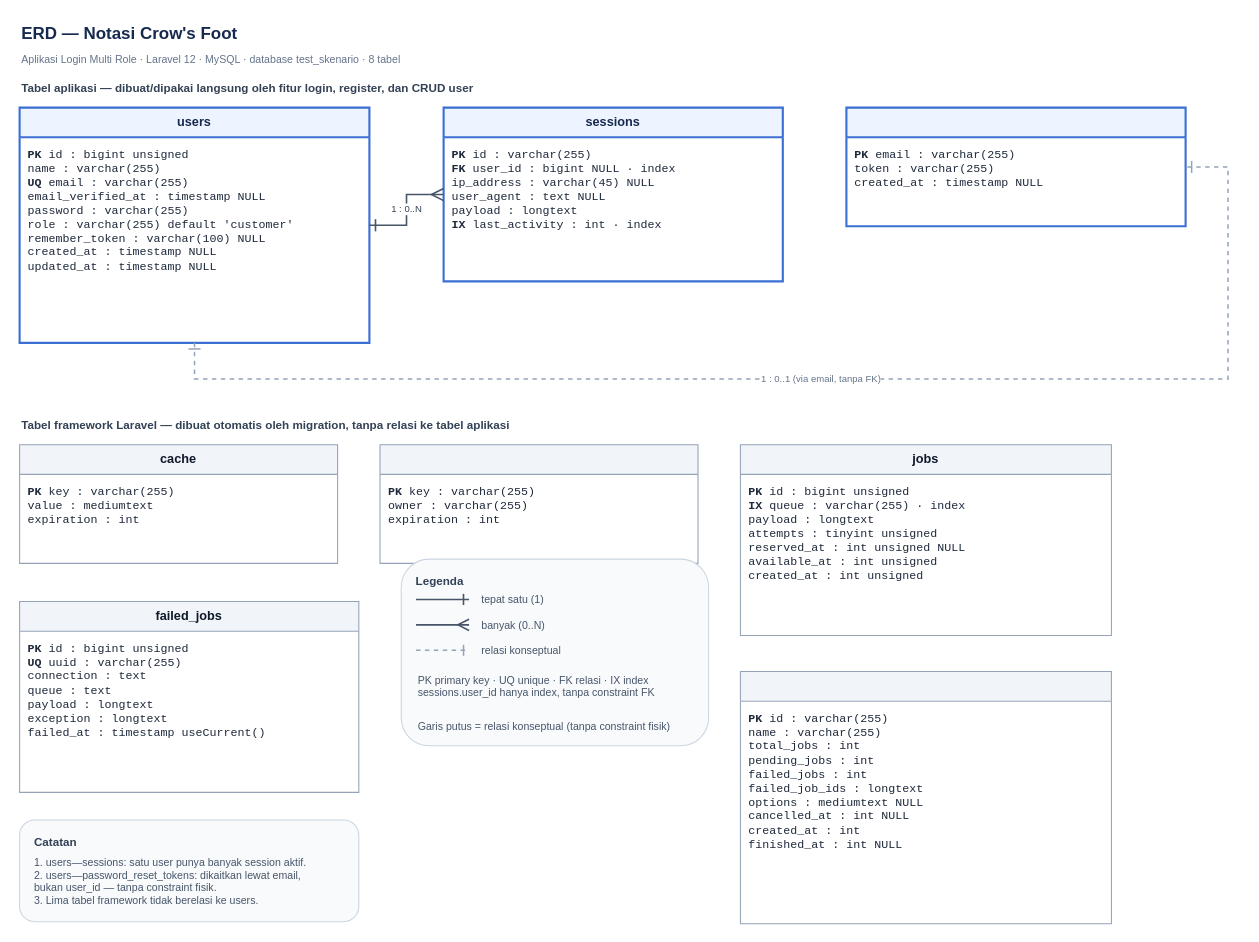
Image size: 1259x942. Some labels were removed from this diagram. Here are the shapes that lost their labels. From the top down, the box of each, then its label:
(845, 106, 1186, 227): password_reset_tokens
(379, 444, 698, 563): cache_locks
(739, 670, 1111, 924): job_batches
